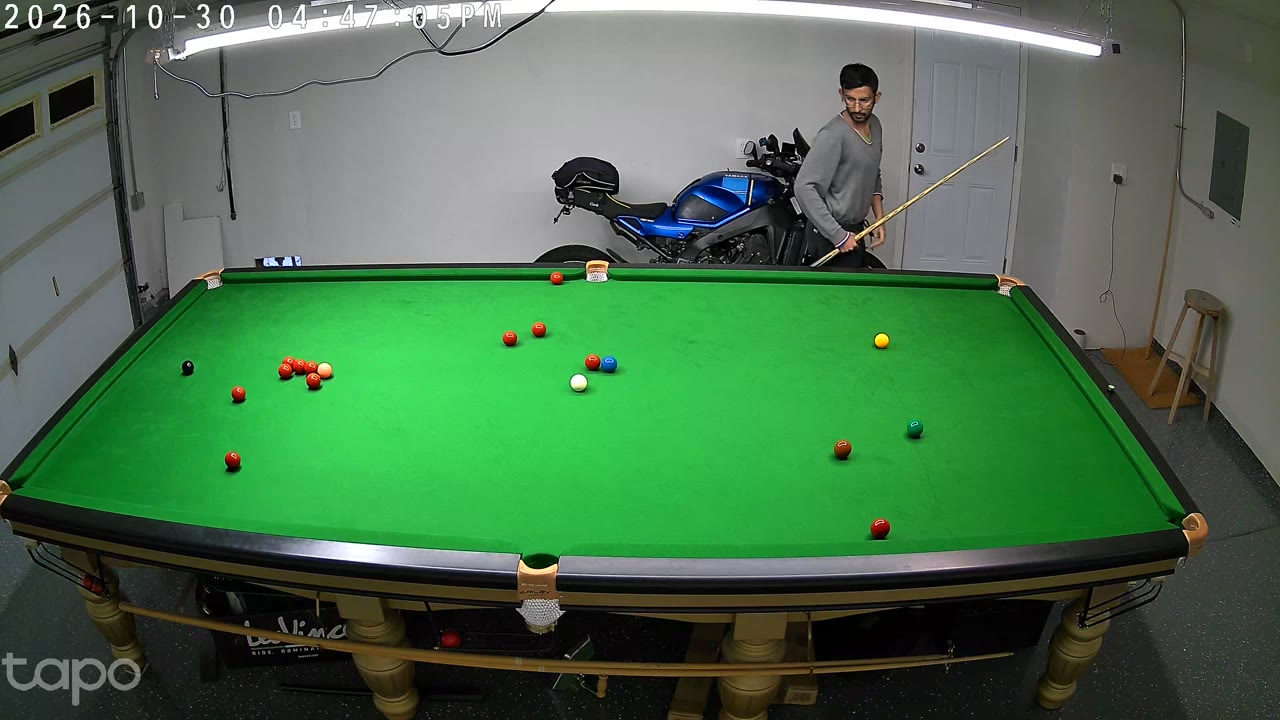black: (182, 359, 194, 378)
blue: (602, 355, 617, 376)
brown: (834, 438, 852, 463)
green: (907, 417, 923, 441)
pink: (318, 362, 331, 381)
red: (869, 515, 891, 546), (225, 449, 241, 474), (585, 353, 600, 374), (232, 385, 246, 405), (503, 329, 517, 349), (532, 320, 546, 340), (279, 362, 292, 382), (307, 371, 319, 391), (284, 356, 295, 376), (305, 360, 316, 379), (551, 271, 562, 288), (295, 359, 305, 376)
white: (571, 372, 587, 395)
yellow: (875, 332, 889, 351)
